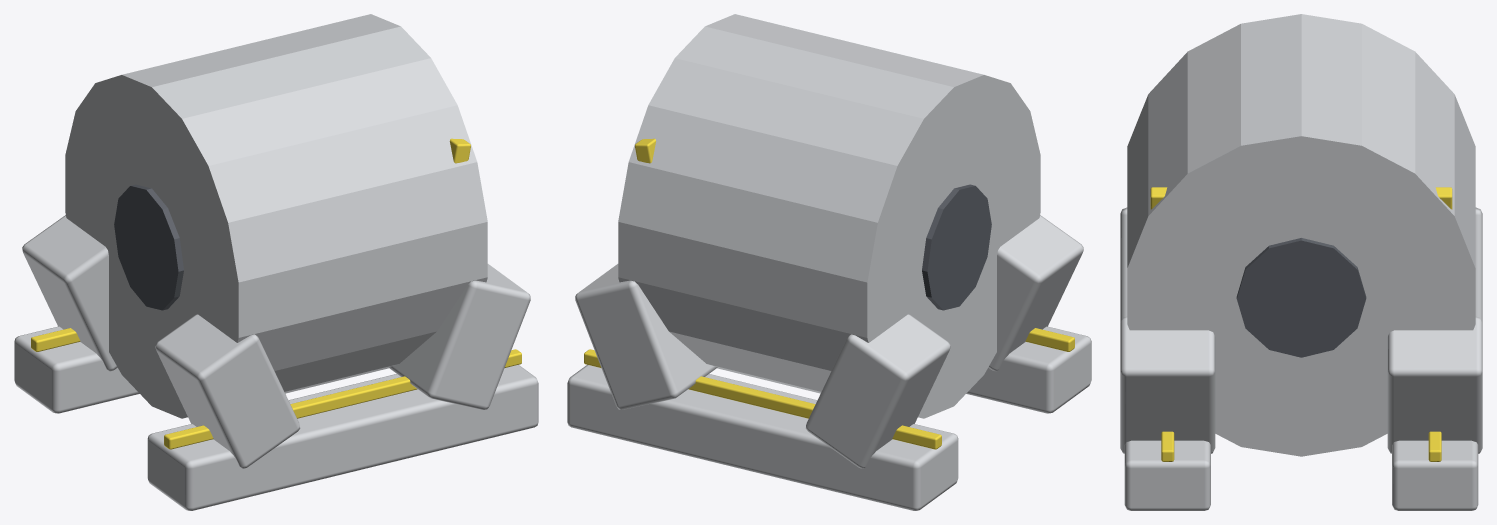
Rendered from steel-coil-on-cradle.glb.
The picture shows the model from 3 angles, left to right: view 1: azimuth 30°, elevation 25°; view 2: azimuth 150°, elevation 25°; view 3: azimuth 270°, elevation 25°; orthographic projection.
Visible parts, largest first — view 1: steel-coil-on-cradle; view 2: steel-coil-on-cradle; view 3: steel-coil-on-cradle.
Part boxes in pixels (x1,y1,x2,y2): steel-coil-on-cradle: (14, 14, 538, 510); steel-coil-on-cradle: (567, 14, 1091, 510); steel-coil-on-cradle: (1120, 14, 1482, 510).
Bounding box in the file's own units: 1.9 × 1.8 × 1.68.
